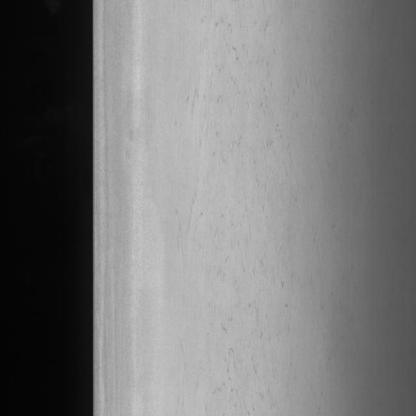silk_spot: (192, 0, 290, 393)
